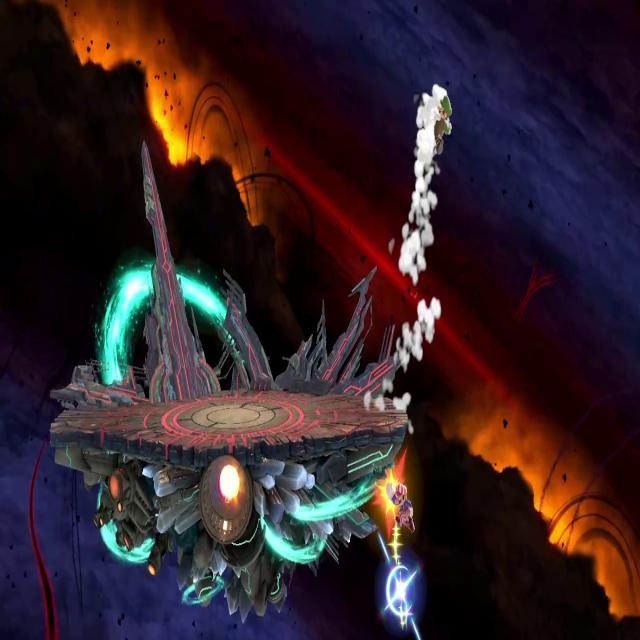Mario-FA: (420, 91, 455, 159)
Mario-UB: (382, 478, 419, 538)
